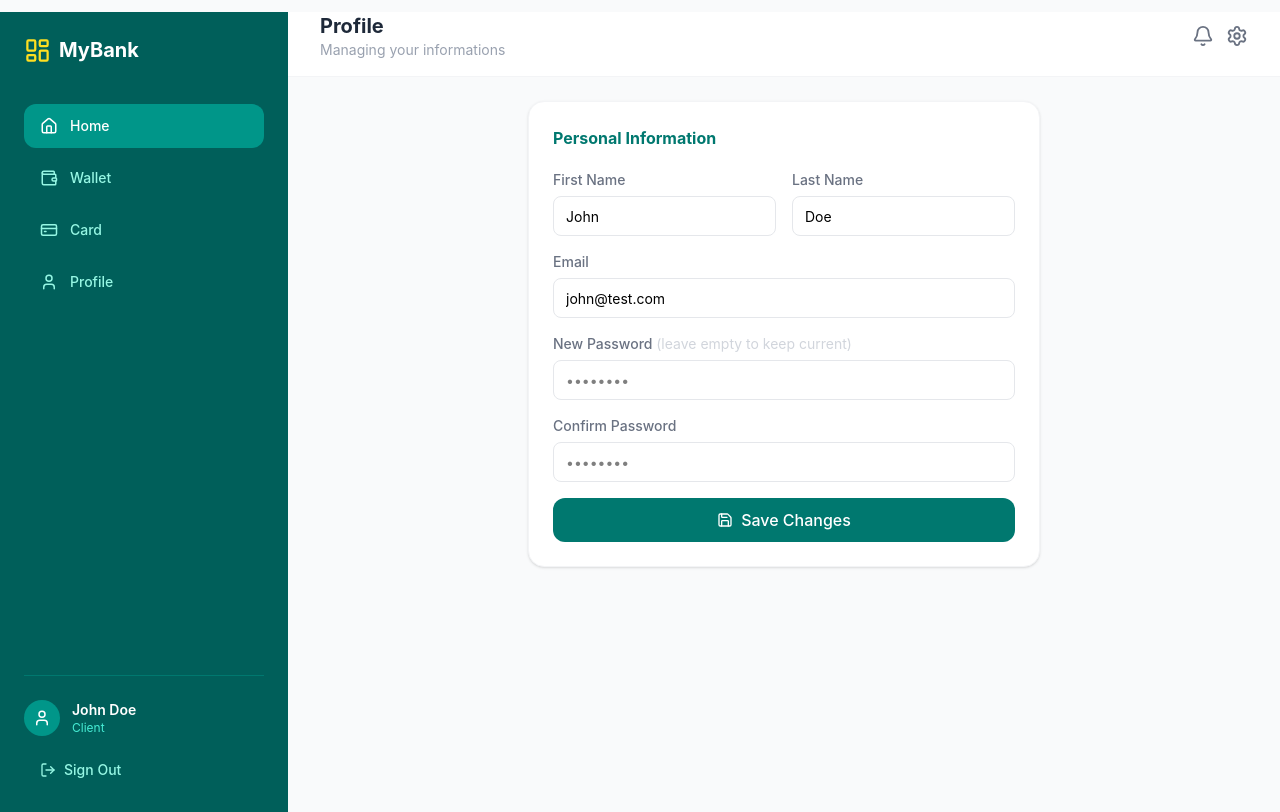
Profile › shows error when passwords do not match
Type "pass123" into the password field labelled "New Password (leave empty to keep current)" at (784,380), box [553,360,1015,400]
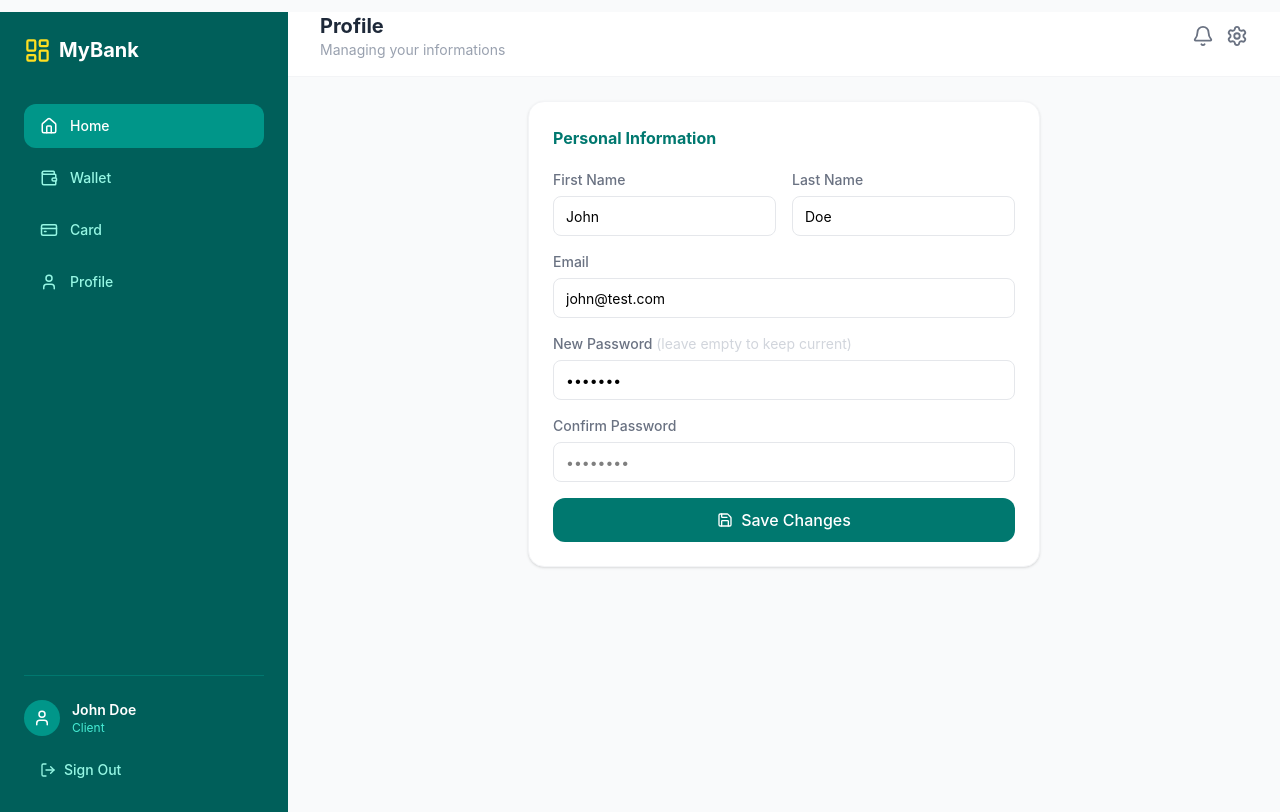
Type "different" into the password field labelled "Confirm Password" at (784,462), box [553,442,1015,482]
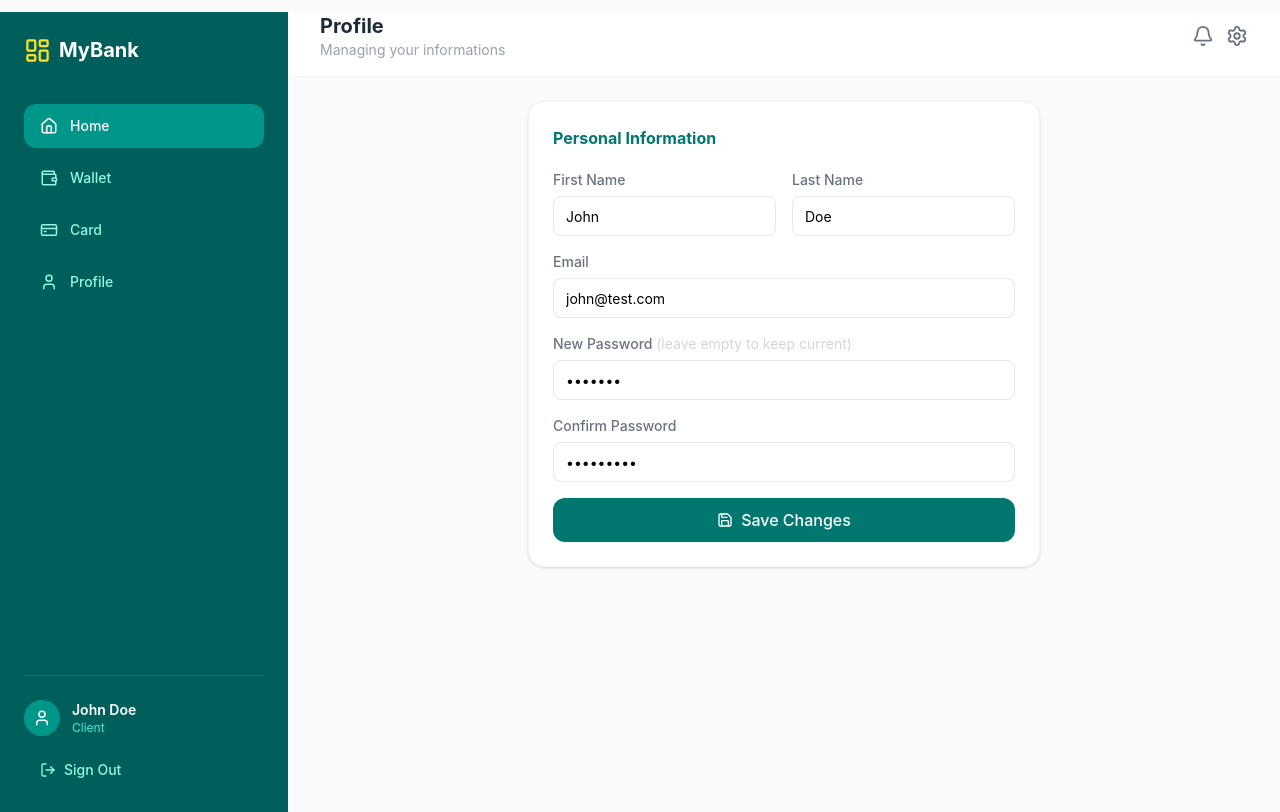
Click the button "Save Changes" at (784,520), box [553,498,1015,542]
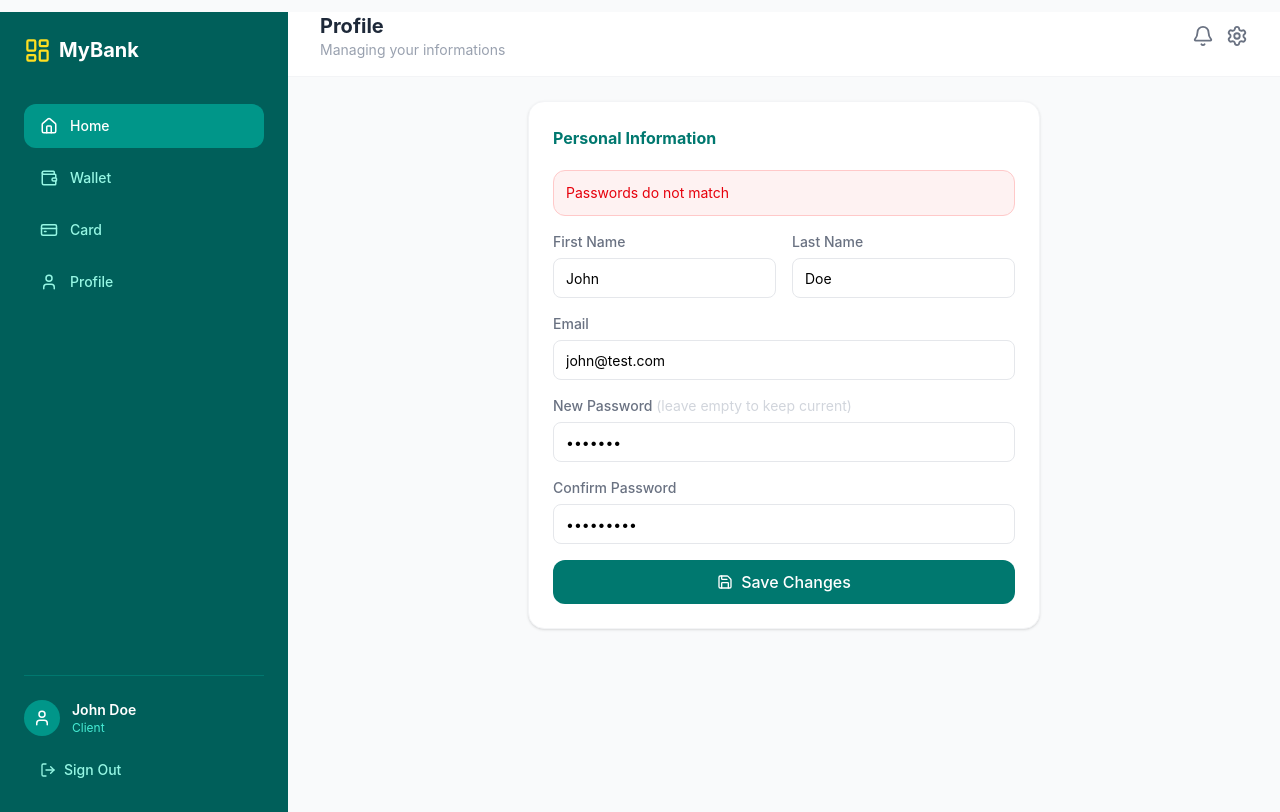
Check: the text "Passwords do not match" is shown, box [553,170,1015,216]
